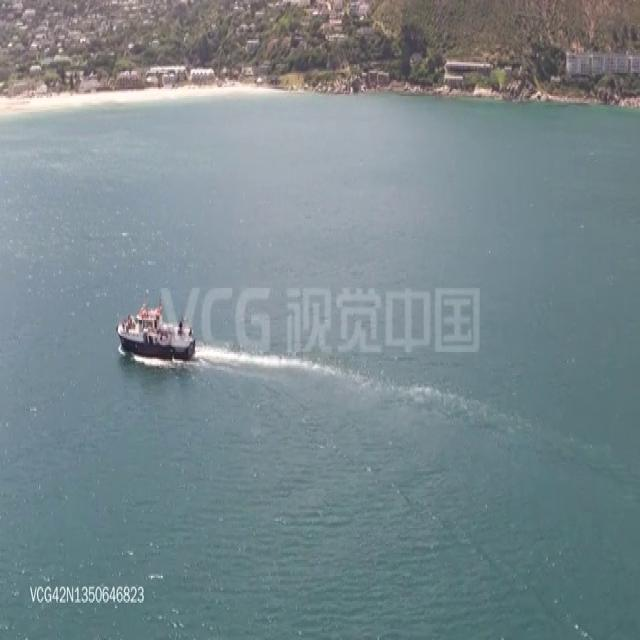houseboat: (116, 292, 198, 361)
